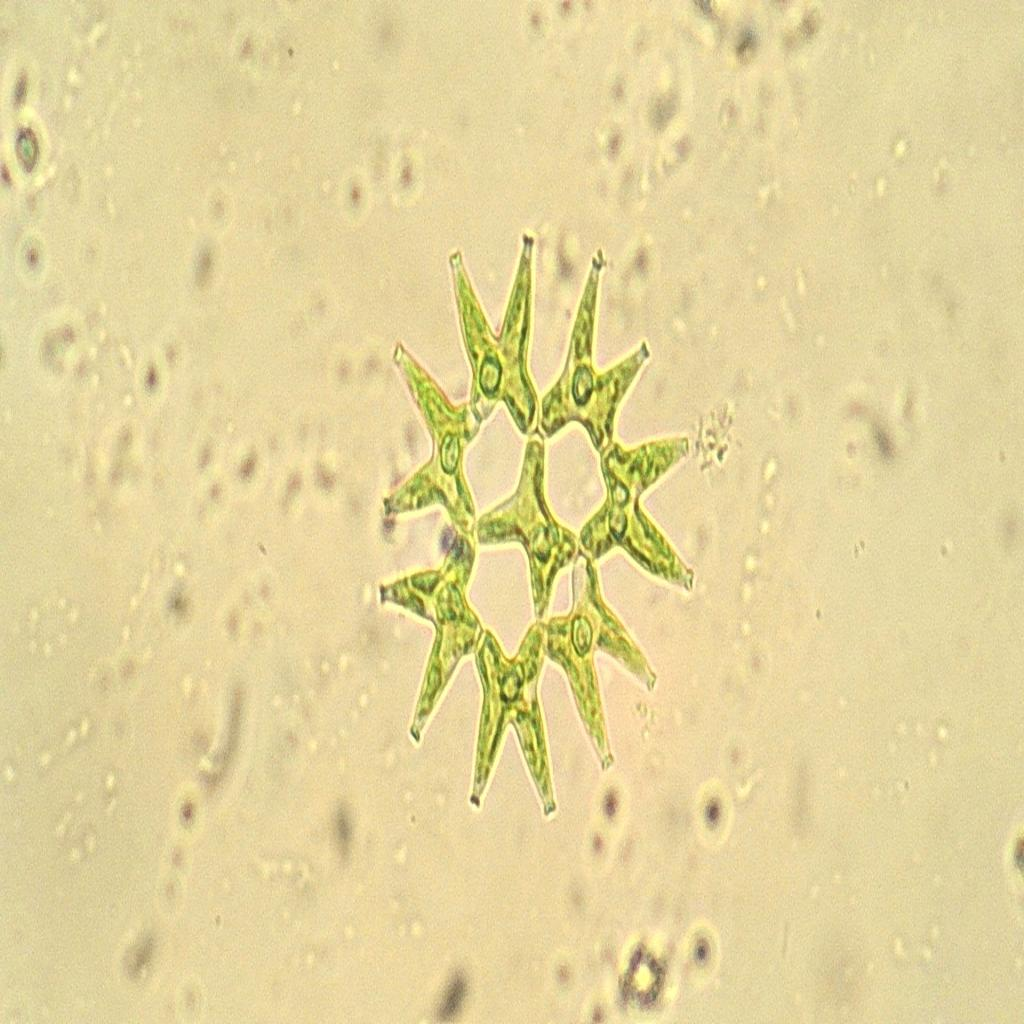Pediastrum_75T: (374, 216, 705, 832)
